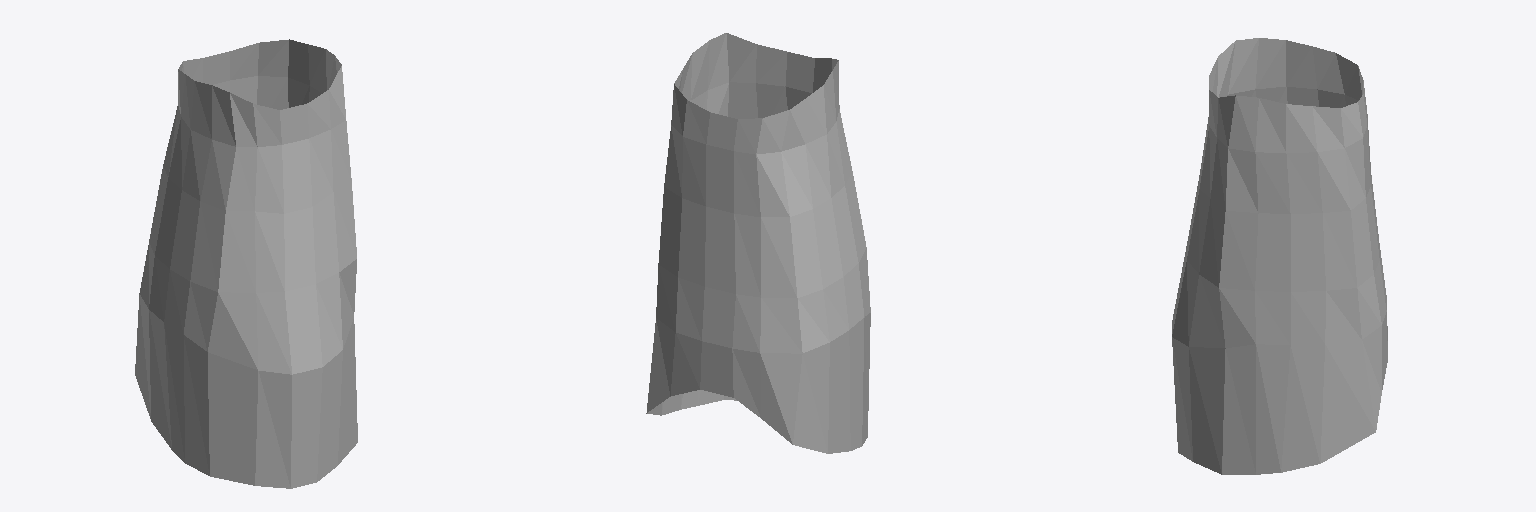
File: leftLeg3Cover.obj
3 views of the same model, side by side, from view 1: azimuth 30°, elevation 25°; view 2: azimuth 150°, elevation 25°; view 3: azimuth 270°, elevation 25° (orthographic).
Visible parts, largest first — view 1: unnamed_object1; view 2: unnamed_object1; view 3: unnamed_object1.
Part boxes in pixels (left/top/right/bottom): unnamed_object1: left=135, top=39, right=357, bottom=488; unnamed_object1: left=646, top=33, right=870, bottom=453; unnamed_object1: left=1172, top=38, right=1387, bottom=474.
Size of the model in its own units: 10.59 by 22.39 by 11.44.